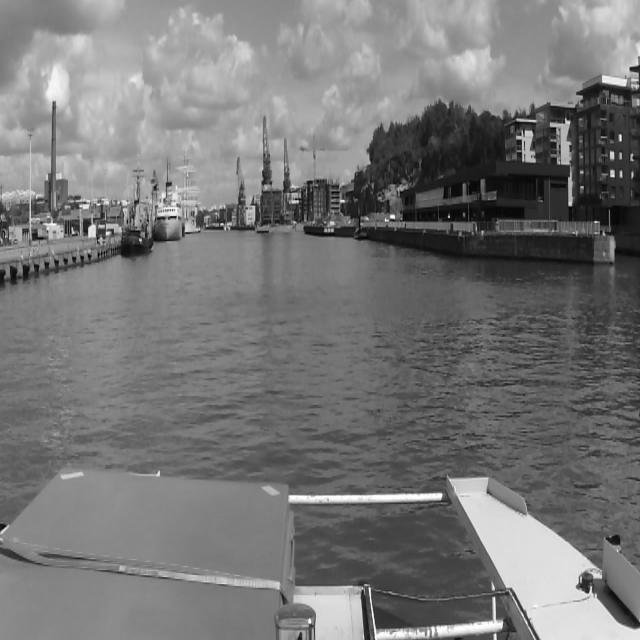ship: (122, 154, 154, 254), (153, 178, 185, 244), (182, 148, 198, 234)
